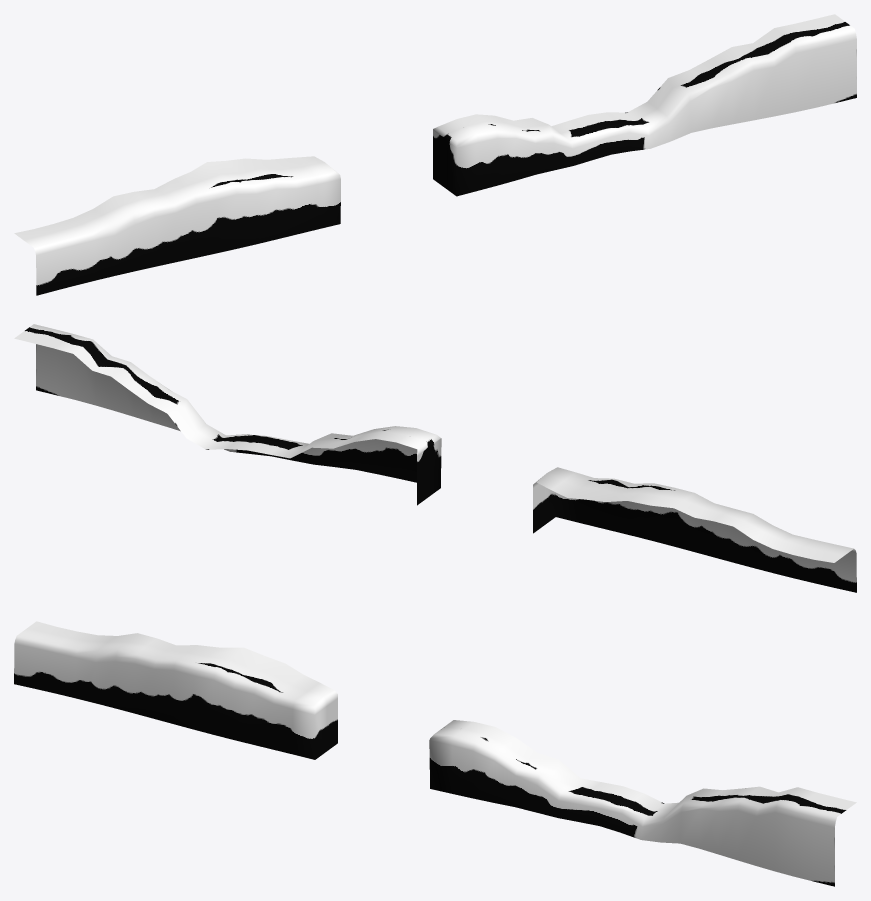
Rendered from levelonepart.fbx.
3 renders of one model, top to bottom at view 1: azimuth 30°, elevation 25°; view 2: azimuth 150°, elevation 25°; view 3: azimuth 330°, elevation 25°, orthographic.
Parts seen in each view (by area): view 1: Plane; view 2: Plane; view 3: Plane.
Part boxes in pixels (left/top/right/bottom): Plane: left=14, top=14, right=856, bottom=295; Plane: left=14, top=324, right=856, bottom=592; Plane: left=14, top=621, right=856, bottom=886.
Size of the model in its own units: 8874 by 777 by 650.
